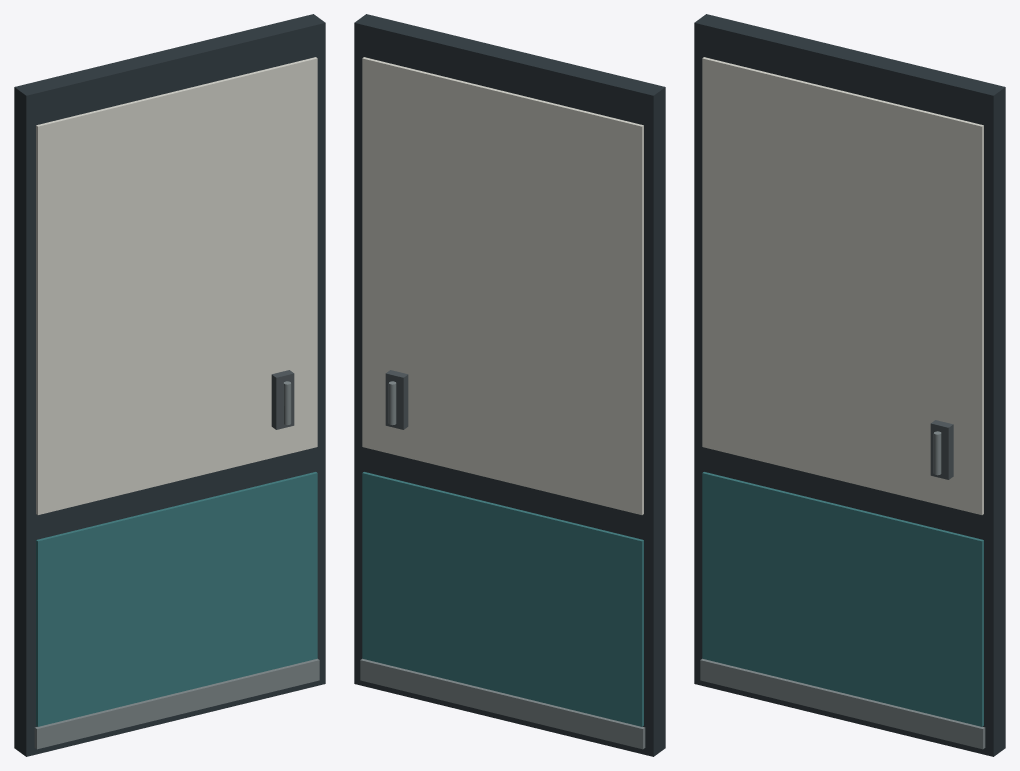
The model's file is security-door-lod0.glb.
The picture shows the model from 3 angles, left to right: view 1: azimuth 30°, elevation 25°; view 2: azimuth 150°, elevation 25°; view 3: azimuth 330°, elevation 25°; orthographic projection.
Parts seen in each view (by area): view 1: door_leaf; view 2: door_leaf; view 3: door_leaf.
Boxes of the visible parts, left/top/right/bottom form: door_leaf: left=14, top=14, right=325, bottom=756; door_leaf: left=354, top=14, right=665, bottom=756; door_leaf: left=694, top=14, right=1005, bottom=756.
Bounding box in the file's own units: 1.08 × 2.28 × 0.21.
